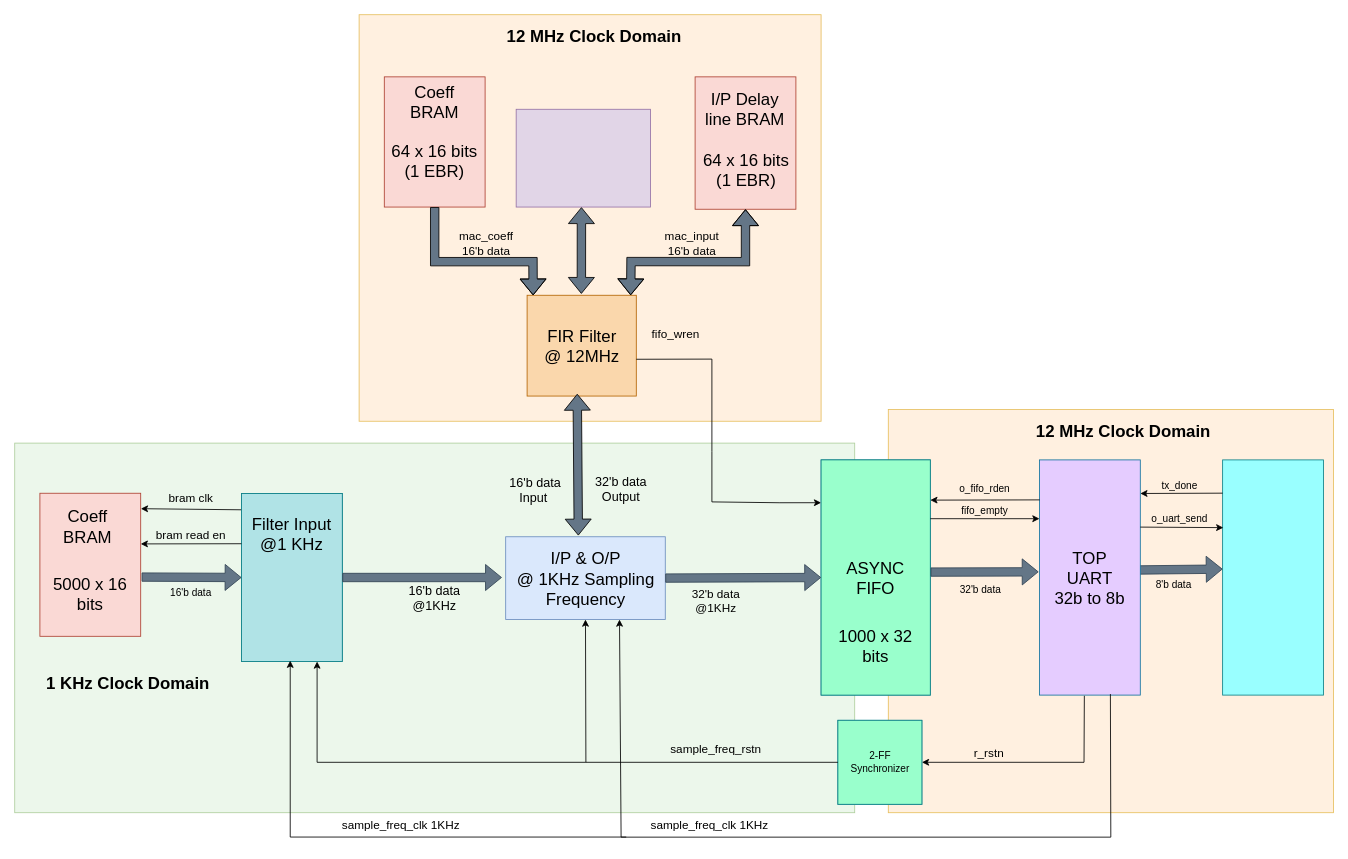
Image size: 1348x859. Some labels were removed from this diagram. Here are the shapes that lost their labels. From the top down, the centre of each, then its label:
At point 583,157: "1 x SB_MAC16 (Multiply & Accumulate)".
At point 1272,577: "UART TX @9600".
